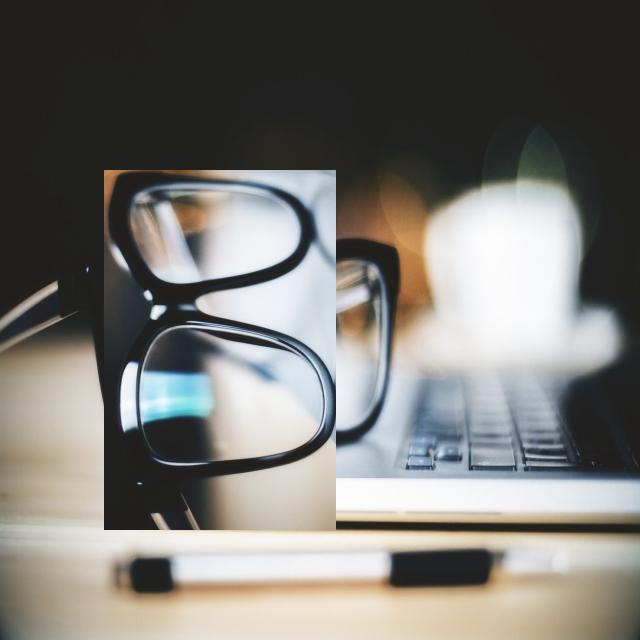glasses: (72, 202, 369, 498)
